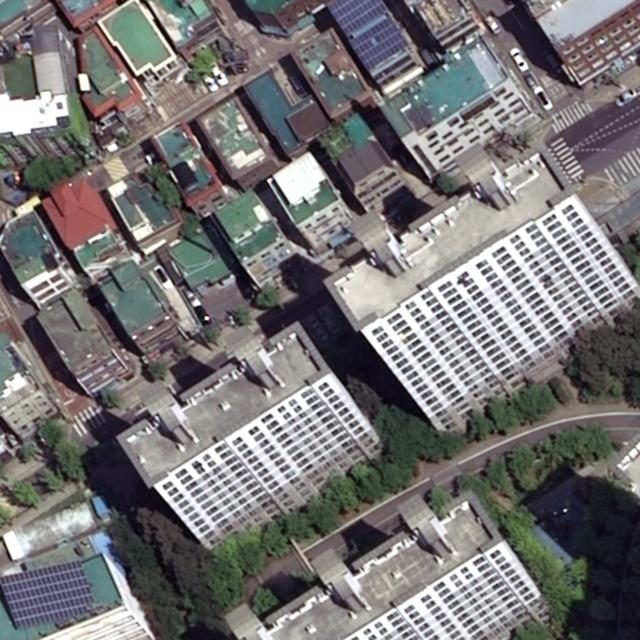panel: (1, 557, 97, 632), (347, 17, 413, 75), (326, 1, 393, 37)
